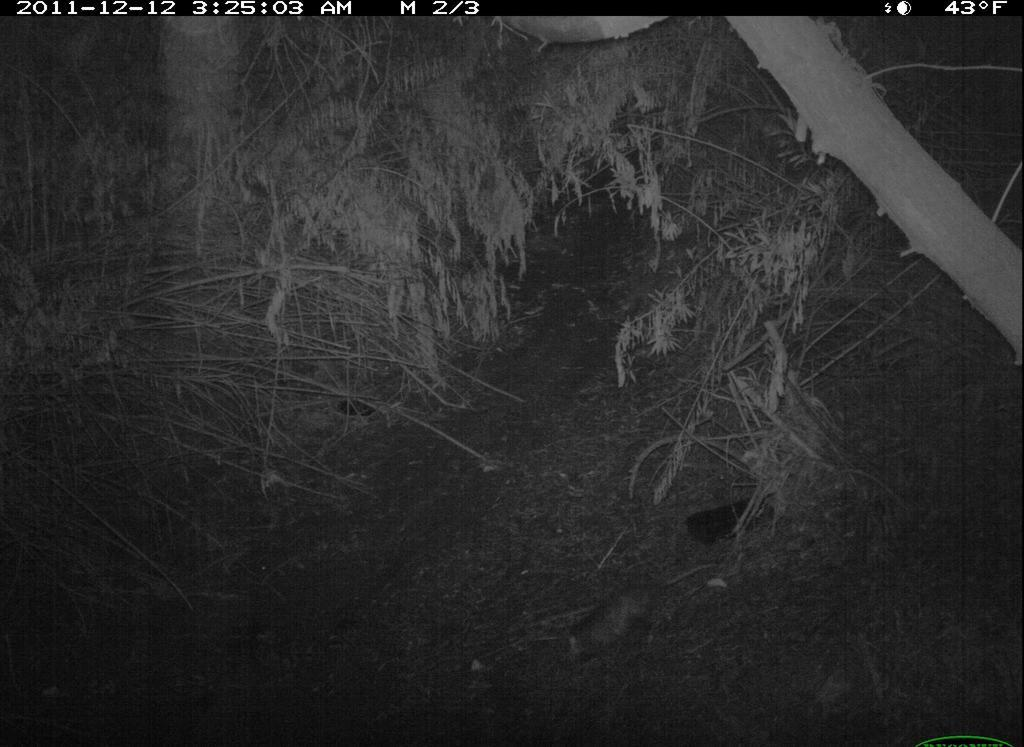opossum: (555, 557, 734, 678)
